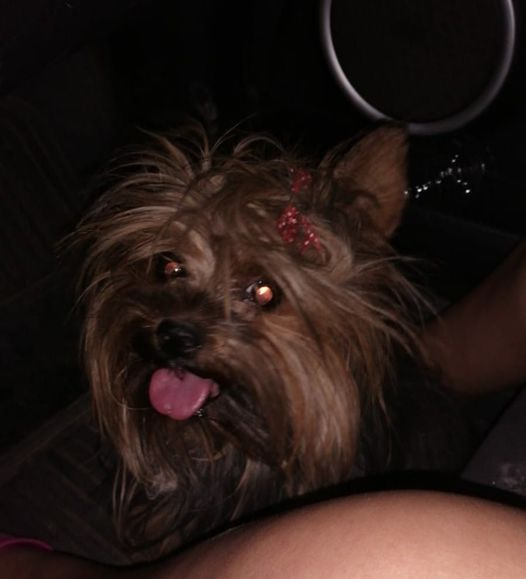dog: (42, 103, 452, 553)
